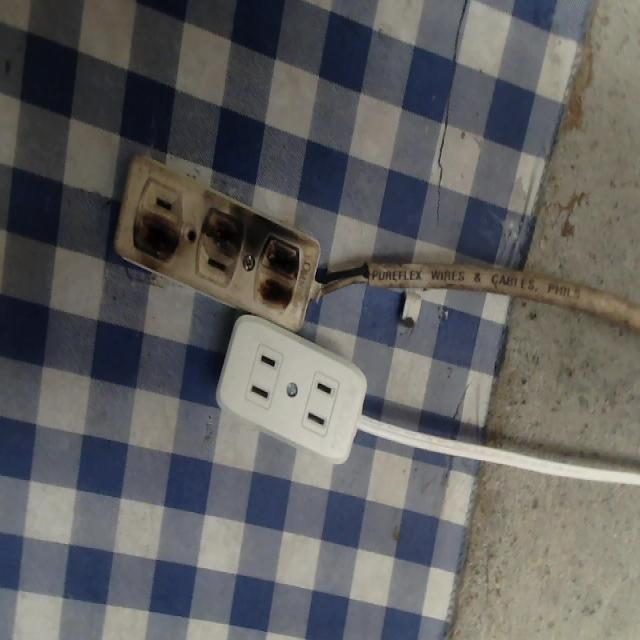-: (255, 219, 310, 317), (191, 182, 247, 250), (124, 209, 180, 272)
